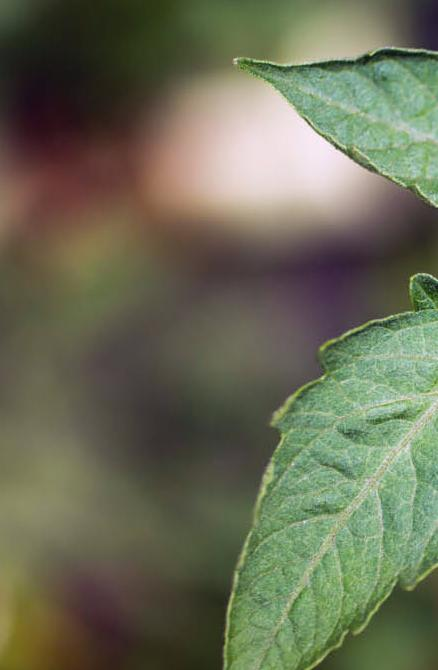Tomato leaf: (152, 278, 438, 670), (178, 19, 438, 232)
